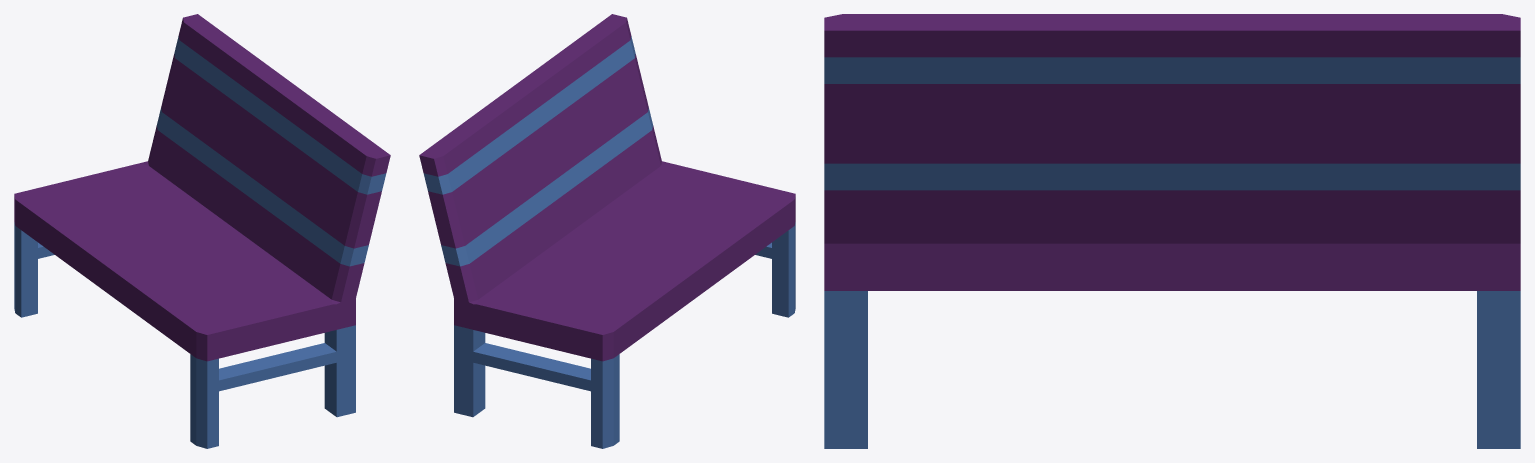
The model's file is BenchModel06.fbx.
3 renders of one model, left to right at view 1: azimuth 30°, elevation 25°; view 2: azimuth 150°, elevation 25°; view 3: azimuth 270°, elevation 25°, orthographic. The views are drawn at different scales.
Parts seen in each view (by area): view 1: Bench06; view 2: Bench06; view 3: Bench06.
Part boxes in pixels (<box>): Bench06: <box>14,14,390,448</box>; Bench06: <box>419,14,795,448</box>; Bench06: <box>824,14,1520,448</box>.
Bounding box in the file's own units: 100 × 126 × 177.
